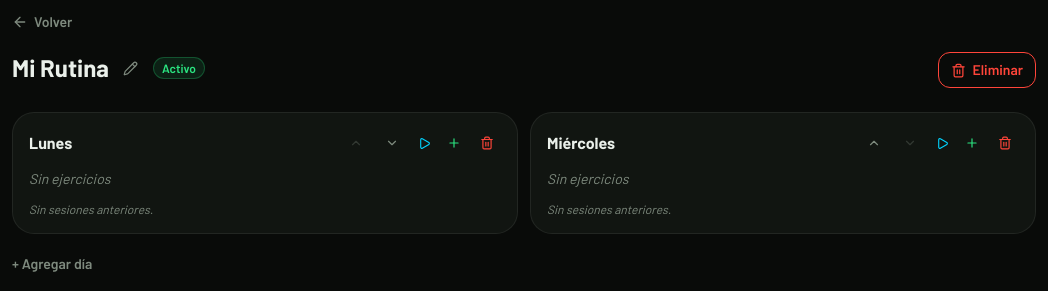
Test case: rename workout › Escape cancels rename and restores the heading
Expected: the heading "Mi Rutina" is shown, [12,52,109,84]
Click the button named "Renombrar entrenamiento" at (131, 68), box [117,54,145,82]
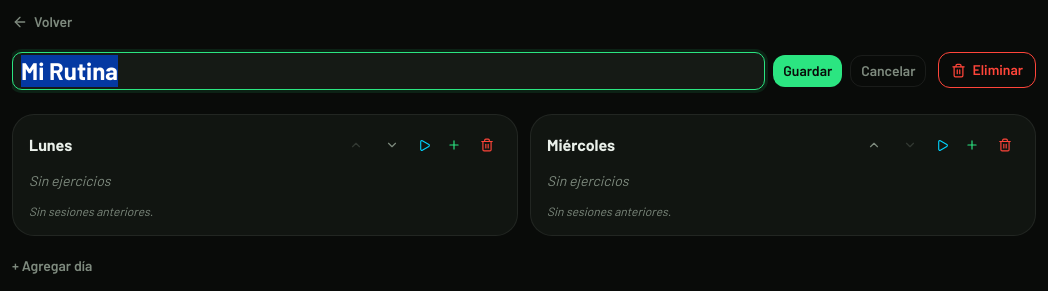
Replace the text in the field named "Nuevo nombre del entrenamiento" with "Nombre Nuevo" at (389, 71), box [12,52,765,90]
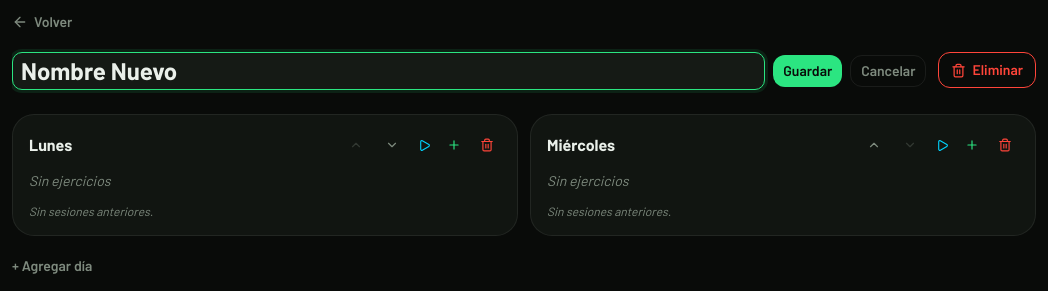
Press Escape
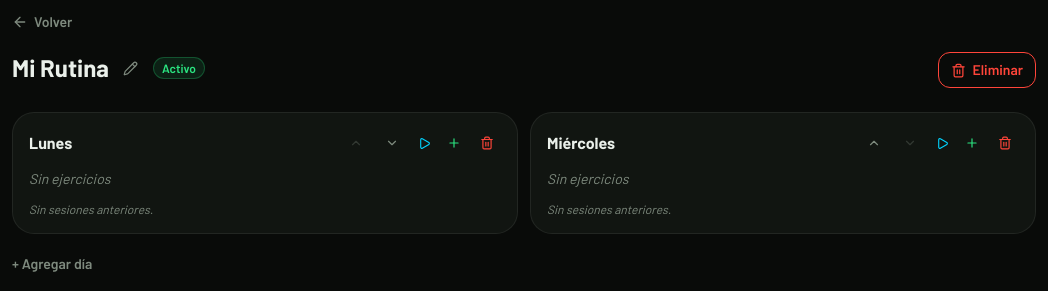
Result: the heading "Mi Rutina" is shown at [12,52,109,84]
